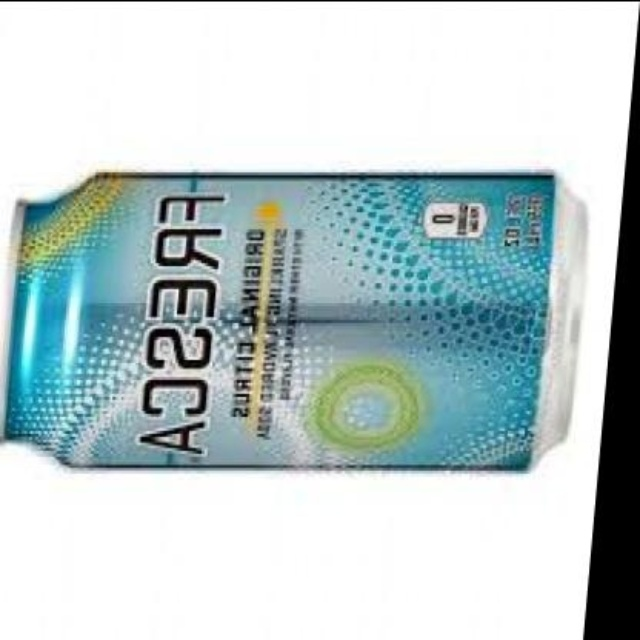trash: (6, 172, 578, 468)
